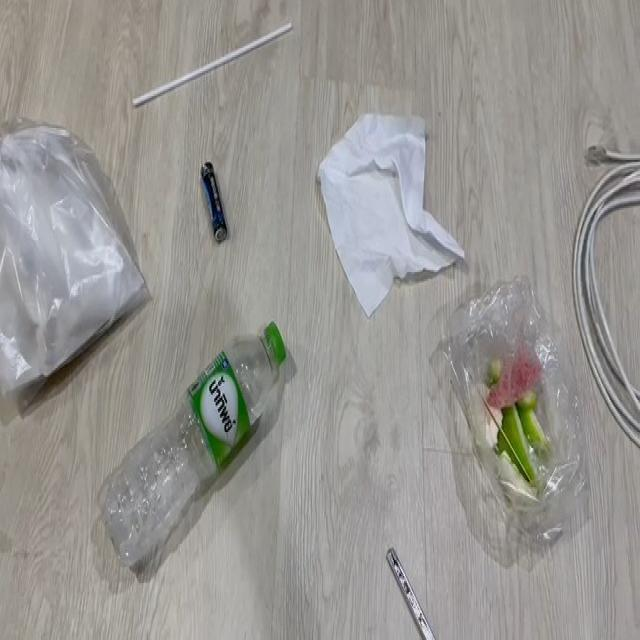Anorganik: (108, 350, 306, 550), (0, 137, 141, 371), (316, 83, 454, 307), (128, 35, 290, 100), (380, 546, 442, 640)
B3: (438, 312, 584, 551), (580, 135, 640, 436), (196, 145, 230, 250)
